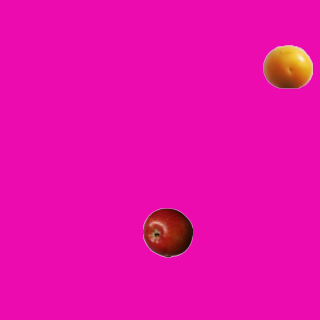Apple Braeburn: (142, 207, 192, 257)
Cherry Wax Yellow: (262, 41, 312, 91)
